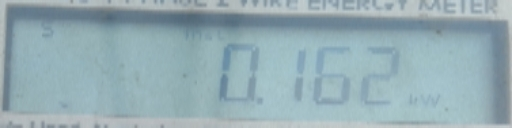0: (215, 38, 259, 108)
1: (291, 36, 306, 108)
2: (355, 36, 399, 112)
6: (311, 40, 355, 109)
d: (256, 90, 265, 107)
